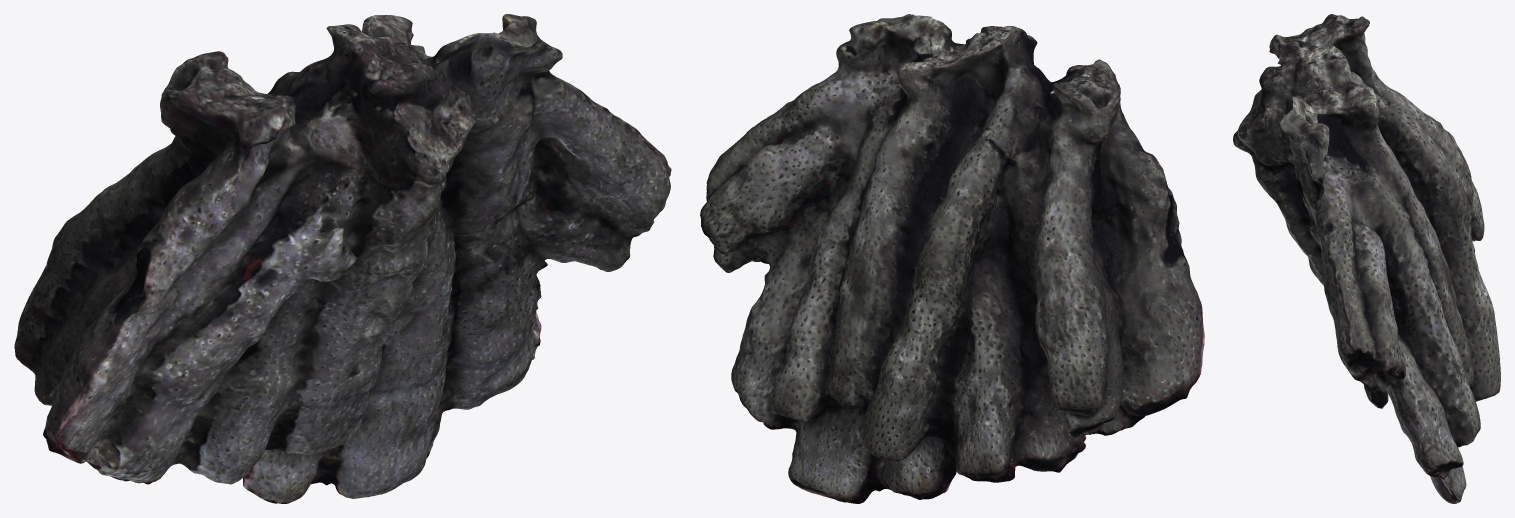
Rendered from MZUR3D-072.glb.
3 renders of one model, left to right at view 1: azimuth 30°, elevation 25°; view 2: azimuth 150°, elevation 25°; view 3: azimuth 270°, elevation 25°, orthographic. The views are drawn at different scales.
Visible parts, largest first — view 1: MZUR3D-072; view 2: MZUR3D-072; view 3: MZUR3D-072.
Boxes of the visible parts, bbox=[...] form: MZUR3D-072: bbox=[14, 14, 671, 503]; MZUR3D-072: bbox=[700, 14, 1204, 503]; MZUR3D-072: bbox=[1233, 14, 1500, 503].
Bounding box in the file's own units: 4.69 × 4.04 × 2.42.
Materials: 1 (1 with a texture image).
